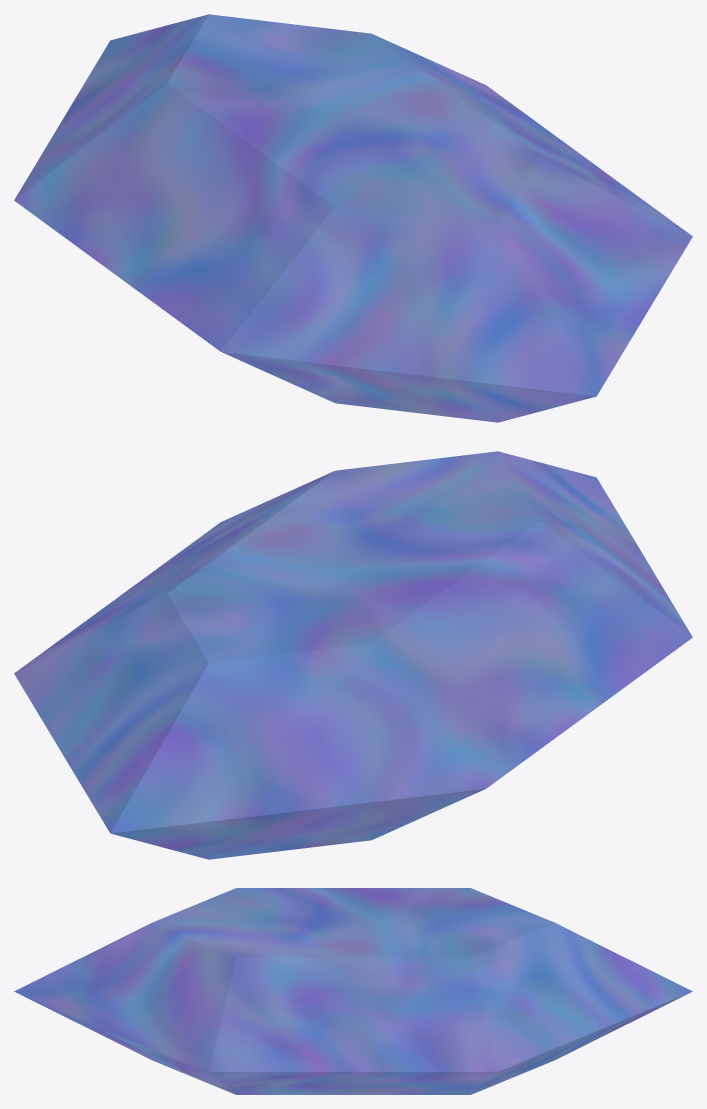
Rendered from Crystal.glb.
3 renders of one model, top to bottom at view 1: azimuth 30°, elevation 25°; view 2: azimuth 150°, elevation 25°; view 3: azimuth 270°, elevation 25°, orthographic. The views are drawn at different scales.
Parts seen in each view (by area): view 1: Plane; view 2: Plane; view 3: Plane.
Boxes of the visible parts, <box> form: Plane: <box>14,14,692,422</box>; Plane: <box>14,451,692,859</box>; Plane: <box>14,888,692,1094</box>.
Size of the model in its own units: 0.0976 by 0.0388 by 0.1741.
Materials: 1 (1 with a texture image).
